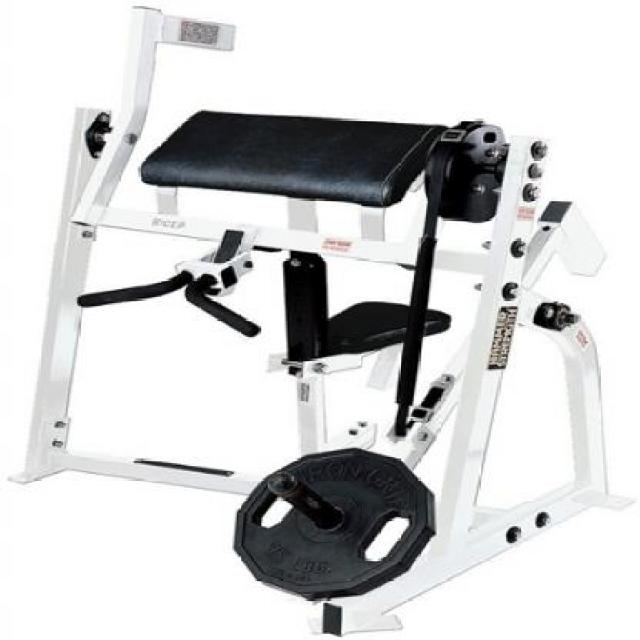arm curl machine: (1, 3, 632, 639)
